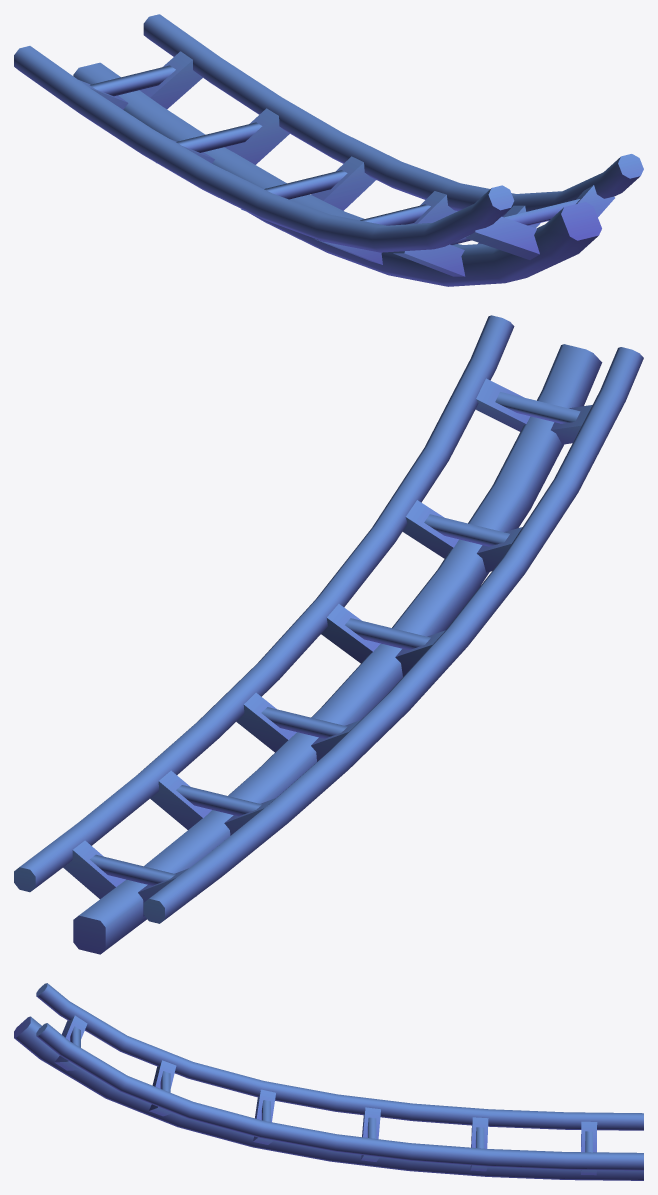
File: kenney-coaster-coaster-steel-straight-hill-beginning.glb
The picture shows the model from 3 angles, top to bottom: view 1: azimuth 30°, elevation 25°; view 2: azimuth 150°, elevation 25°; view 3: azimuth 270°, elevation 25°; orthographic projection. The views are drawn at different scales.
Parts seen in each view (by area): view 1: coaster-steel-straight-hill-beginning; view 2: coaster-steel-straight-hill-beginning; view 3: coaster-steel-straight-hill-beginning.
Boxes of the visible parts, box(x1,y1,x2,y2) form: coaster-steel-straight-hill-beginning: box(14, 14, 643, 286); coaster-steel-straight-hill-beginning: box(14, 315, 643, 954); coaster-steel-straight-hill-beginning: box(14, 983, 643, 1180).
Size of the model in its own units: 0.7002 by 1.21 by 4.
1 material, 1 textured.
